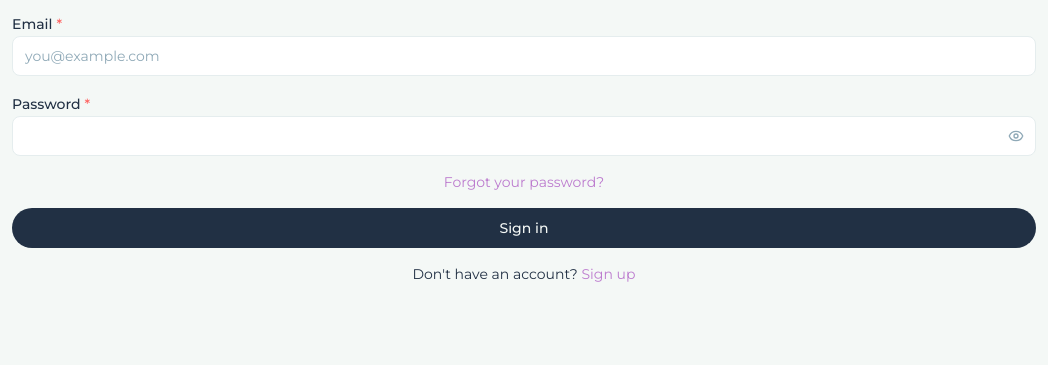
Test: LoginForm › shows the login error returned by the auth service
Type "test@example.com" into the field labelled "Email*" at coordinates (524, 56), box [12,36,1036,76]
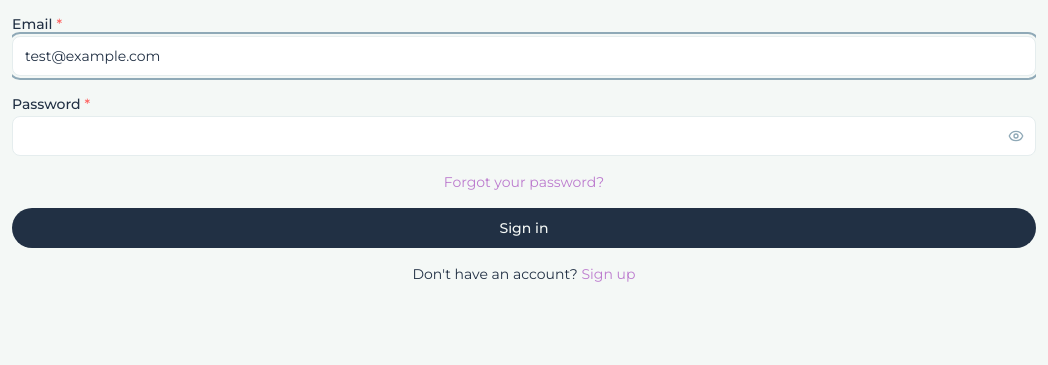
Type "Password123" into the password field labelled "Password*" at coordinates (524, 136), box [12,116,1036,156]
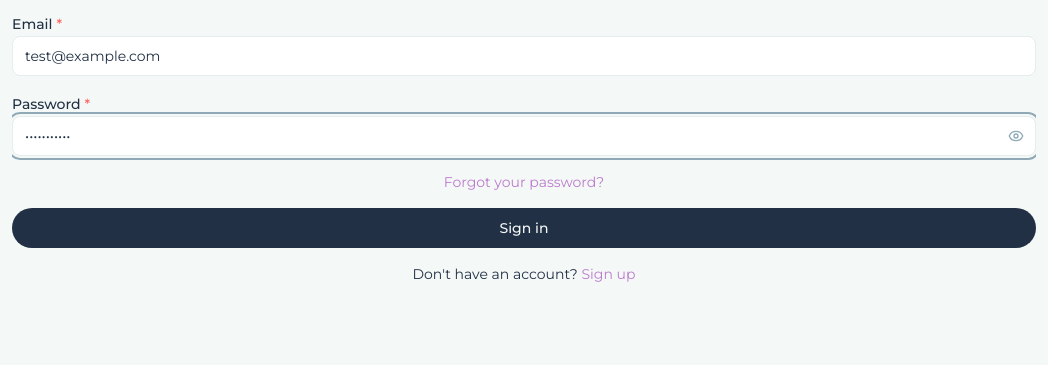
Click the button "Sign in" at coordinates (524, 228), box [12,208,1036,248]
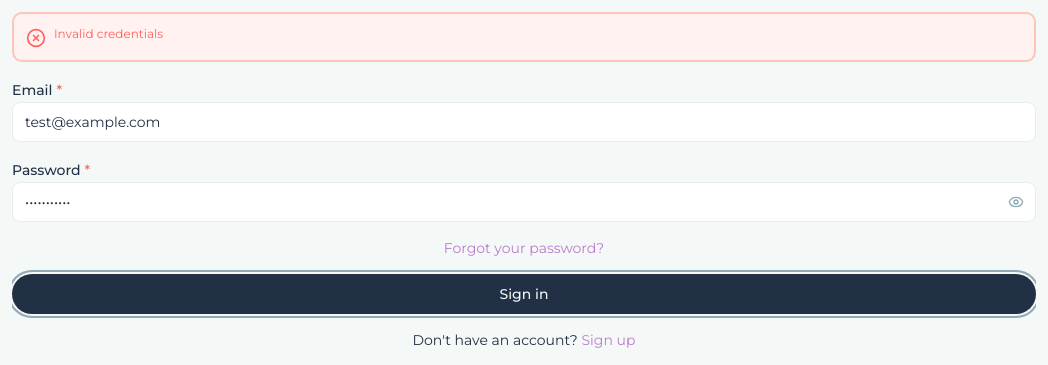
Check: the message reads "Invalid credentials", box [54,26,163,41]
